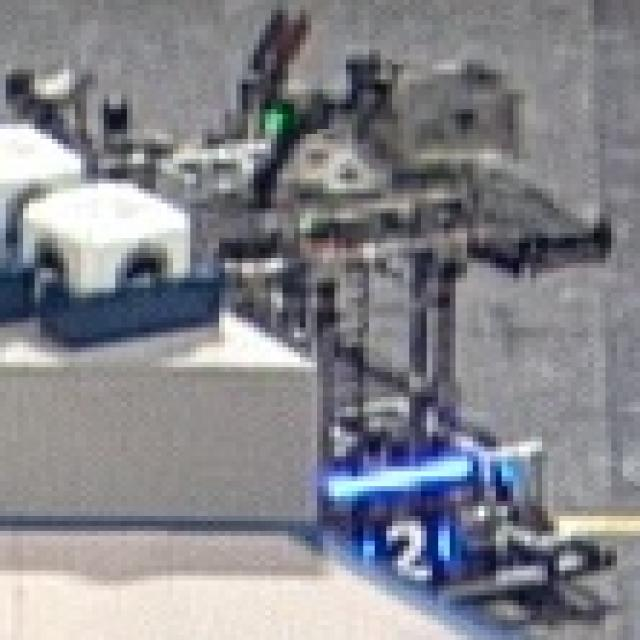B2: (334, 508, 456, 598)
